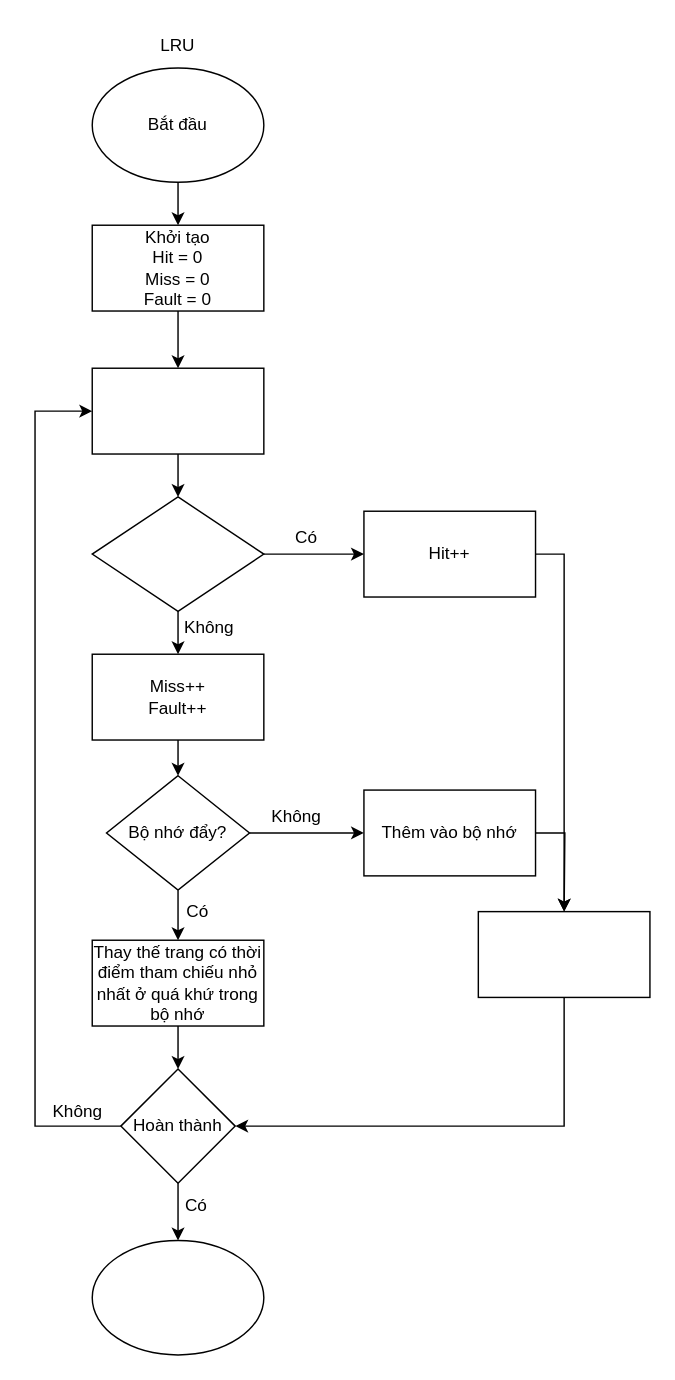
This 675x1380 diagram has some shape labels left out. Each missing label, with the box of its shape:
Cập nhật thời điểm tham chiếu: (477, 910, 650, 997)
Kiểm tra ở trong bộ nhớ: (91, 495, 264, 611)
Kết thúc: (91, 1239, 264, 1355)
Nhập vào một trang: (91, 367, 264, 454)
